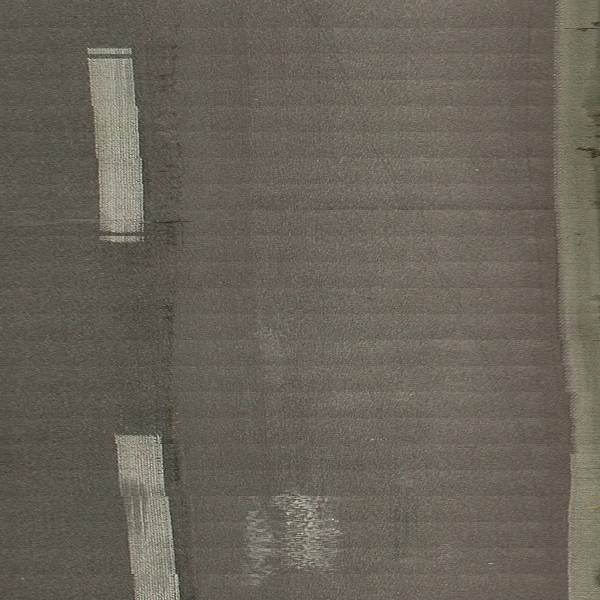road_damage: (155, 34, 194, 558)
